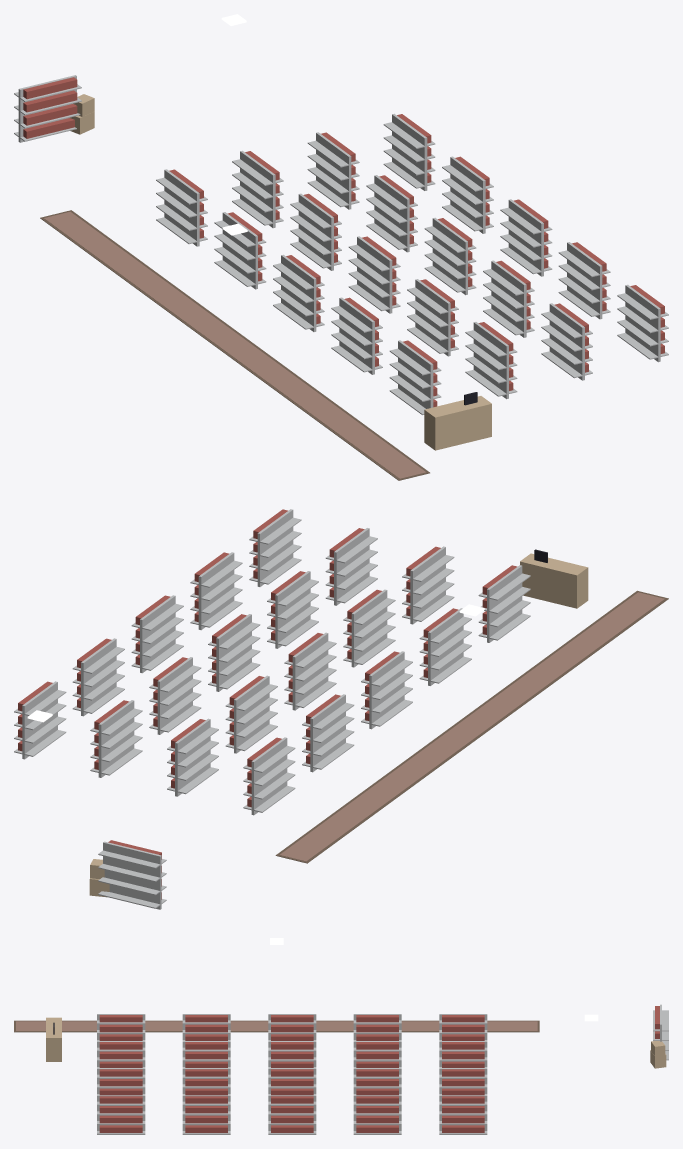
Rendered from fine-s0.glb.
3 views of the same model, one above another, from view 1: azimuth 30°, elevation 25°; view 2: azimuth 150°, elevation 25°; view 3: azimuth 270°, elevation 25° (orthographic). The views are drawn at different scales.
Parts seen in each view (by area): view 1: soft-s0, shelving.000, shop-counter.000, shelf.017, shelf.009, shelf.012, shelf.010, shelf.018, shelf.000, shelf.007, shelf.015, shelf.011 (+12 smaller); view 2: soft-s0, shelving.000, shop-counter.000, shelf.010, shelf.007, shelf.018, shelf.000, shelf.008, shelf.014, shelf.019, shelf.006, shelf.017 (+11 smaller); view 3: soft-s0, shelf.015, shelf.016, shelf.017, shelf.018, shelf.019, shelf.010, shelf.011, shelf.012, shelf.013, shelf.014, shelf.000 (+12 smaller).
Boxes of the visible parts, x1,y1,x2,y2 form: soft-s0: (40,210,429,480); shelving.000: (14,75,81,142); shop-counter.000: (424,392,491,450); shelf.017: (500,199,552,276); shelf.009: (465,322,517,399); shelf.012: (424,217,476,295); shelf.010: (307,132,359,209); shelf.018: (558,242,610,319); shelf.000: (156,169,207,246); shelf.007: (348,236,400,313); shelf.015: (383,113,435,190); shelf.011: (366,175,417,252); soft-s0: (275,590,668,863); shelving.000: (98,840,166,909); shop-counter.000: (520,549,588,608); shelf.010: (90,700,142,777); shelf.007: (284,632,336,710); shelf.018: (190,552,242,630); shelf.000: (243,737,295,815); shelf.008: (343,589,395,667); shelf.014: (325,528,377,605); shelf.019: (249,509,301,586); shelf.006: (225,675,277,753); shelf.017: (131,595,183,673); soft-s0: (14,1020,539,1032); shelf.015: (439,1095,487,1134); shelf.016: (353,1095,401,1134); shelf.017: (268,1095,316,1134); shelf.018: (182,1095,230,1134); shelf.019: (97,1095,145,1134); shelf.010: (439,1068,487,1095); shelf.011: (353,1068,401,1095); shelf.012: (268,1068,316,1095); shelf.013: (182,1068,230,1095); shelf.014: (97,1068,145,1095); shelf.000: (439,1014,487,1040).
Size of the model in its own units: 10.35 by 3.53 by 24.51.
